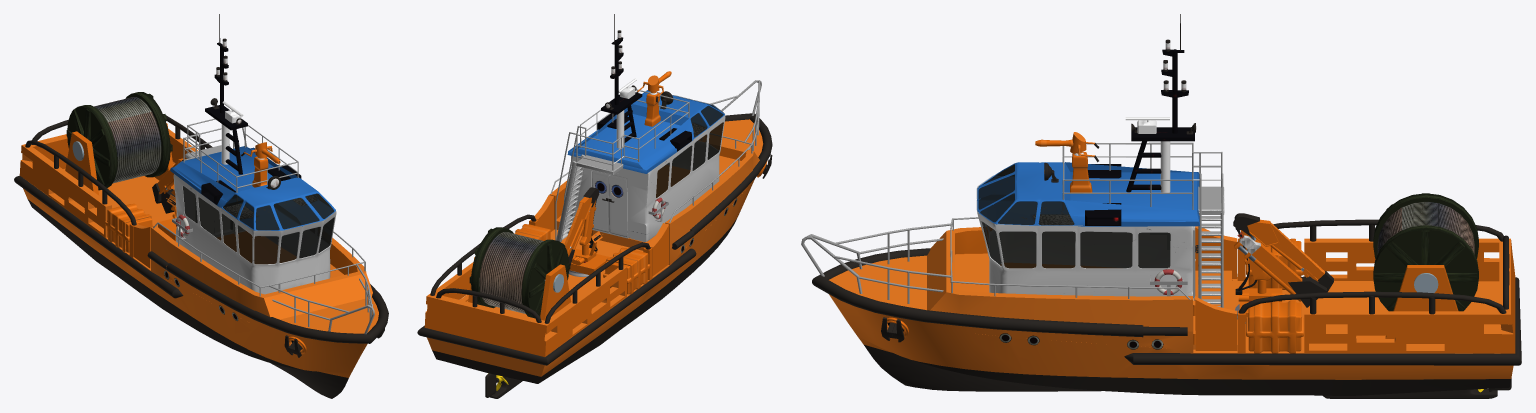
File: survey_boat.glb
3 views of the same model, side by side, from view 1: azimuth 30°, elevation 25°; view 2: azimuth 150°, elevation 25°; view 3: azimuth 270°, elevation 25° (orthographic). The views are drawn at different scales.
Parts seen in each view (by area): view 1: Object_22, Object_12, Object_8, Object_25, Object_20, Object_32, Object_10, Object_33, Object_28, Object_34, Object_21, Object_11; view 2: Object_22, Object_12, Object_20, Object_25, Object_32, Object_28, Object_10, Object_33, Object_21, Object_8, Object_34, Object_26 (+2 smaller); view 3: Object_22, Object_12, Object_20, Object_8, Object_25, Object_32, Object_28, Object_33, Object_21, Object_34, Object_10, Object_13 (+1 smaller).
Part boxes in pixels (x1,y1,x2,y2): Object_22: [21, 129, 378, 377]; Object_12: [14, 55, 388, 398]; Object_8: [183, 186, 334, 264]; Object_25: [173, 174, 336, 294]; Object_20: [19, 123, 268, 268]; Object_32: [170, 146, 335, 230]; Object_10: [94, 97, 161, 183]; Object_33: [66, 92, 172, 190]; Object_28: [153, 118, 374, 334]; Object_34: [201, 42, 302, 348]; Object_21: [105, 142, 306, 354]; Object_11: [221, 101, 243, 164]; Object_22: [426, 119, 763, 376]; Object_12: [417, 45, 772, 397]; Object_20: [424, 83, 669, 356]; Object_25: [563, 95, 725, 241]; Object_32: [567, 90, 724, 173]; Object_28: [550, 80, 761, 241]; Object_10: [479, 232, 543, 313]; Object_33: [469, 227, 570, 318]; Object_21: [514, 71, 767, 294]; Object_8: [656, 104, 723, 197]; Object_34: [597, 37, 691, 151]; Object_26: [609, 174, 627, 236]; Object_22: [829, 226, 1513, 379]; Object_12: [812, 60, 1521, 395]; Object_20: [1070, 140, 1515, 353]; Object_8: [978, 164, 1170, 268]; Object_25: [976, 175, 1220, 300]; Object_32: [977, 162, 1199, 226]; Object_28: [801, 142, 1224, 307]; Object_33: [1373, 193, 1478, 311]; Object_21: [887, 132, 1303, 353]; Object_34: [887, 49, 1194, 331]; Object_10: [1377, 201, 1474, 254]; Object_13: [1094, 14, 1509, 398].
Bounding box in the file's own units: 405 × 868 × 1482.
27 materials, 26 textured.
